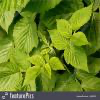Raspberry leaf: (64, 45, 90, 74), (70, 1, 95, 31), (46, 28, 70, 50), (21, 65, 42, 89), (56, 18, 74, 39), (70, 32, 91, 46), (48, 55, 66, 70), (27, 55, 46, 66), (43, 63, 52, 79)
